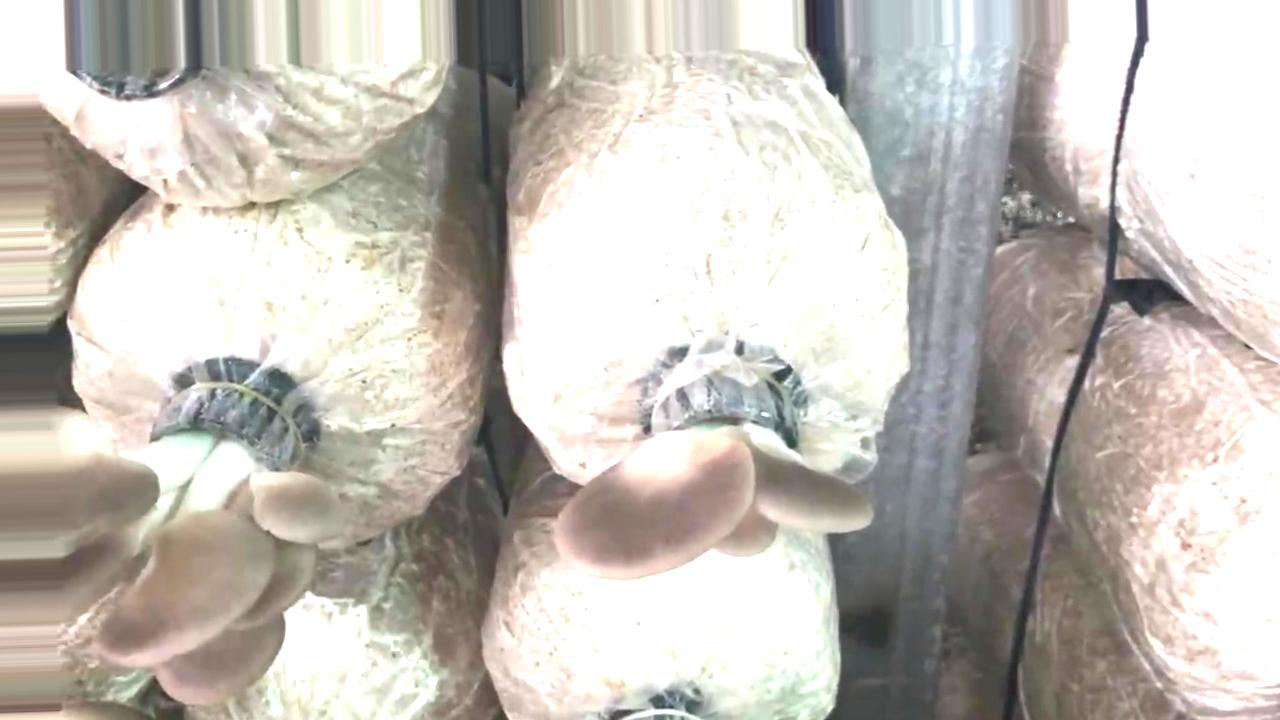nam: (67, 385, 352, 710), (552, 349, 873, 580)
